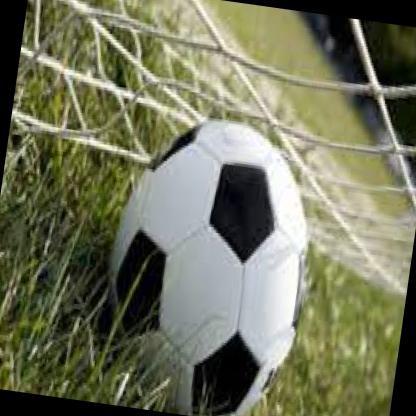ball: (86, 105, 323, 416)
